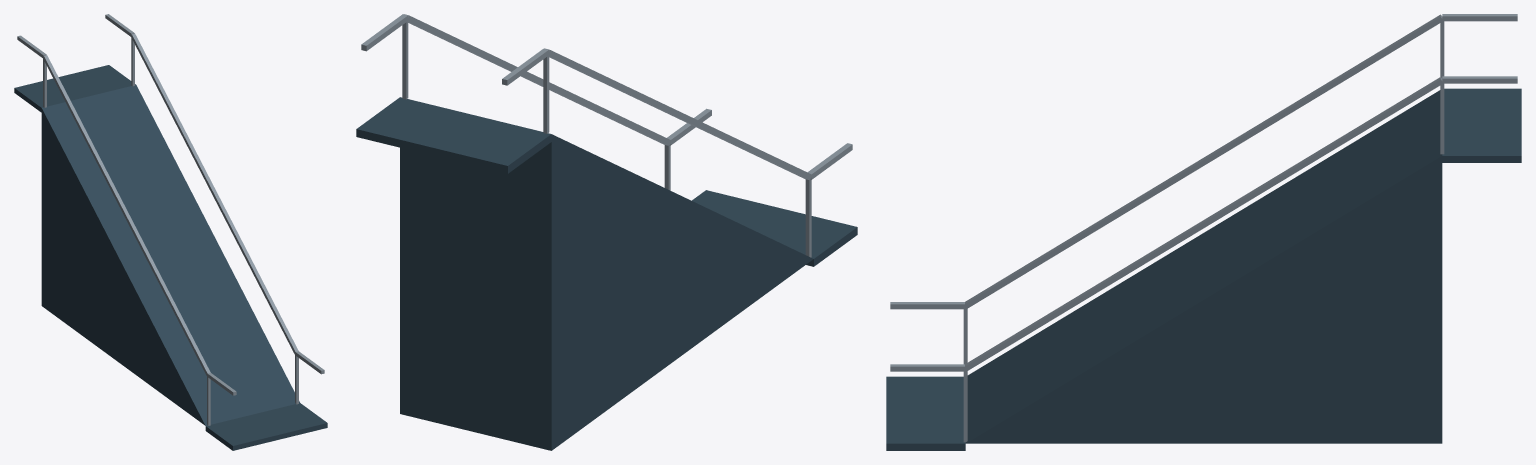
The model's file is stairs.v1.low.glb.
The picture shows the model from 3 angles, left to right: view 1: azimuth 30°, elevation 25°; view 2: azimuth 150°, elevation 25°; view 3: azimuth 270°, elevation 25°; orthographic projection. The views are drawn at different scales.
Visible parts, largest first — view 1: mesh_flight_low, mesh_lower_landing, mesh_upper_landing, mesh_rail_-0.93, mesh_rail_0.93; view 2: mesh_flight_low, mesh_upper_landing, mesh_lower_landing, mesh_rail_-0.93, mesh_rail_0.93, mesh_post_-0.93_0, mesh_post_0.93_1, mesh_post_-0.93_1, mesh_rail_exit_-0.93, mesh_rail_exit_0.93; view 3: mesh_flight_low, mesh_lower_landing, mesh_upper_landing, mesh_rail_-0.93, mesh_rail_0.93.
Part boxes in pixels (left/top/right/bottom): mesh_flight_low: left=41, top=85, right=299, bottom=425; mesh_lower_landing: left=205, top=403, right=327, bottom=450; mesh_upper_landing: left=14, top=65, right=135, bottom=112; mesh_rail_-0.93: left=43, top=55, right=210, bottom=375; mesh_rail_0.93: left=131, top=34, right=298, bottom=354; mesh_flight_low: left=400, top=134, right=813, bottom=450; mesh_upper_landing: left=356, top=97, right=551, bottom=173; mesh_lower_landing: left=692, top=190, right=857, bottom=266; mesh_rail_-0.93: left=544, top=48, right=811, bottom=180; mesh_rail_0.93: left=404, top=14, right=670, bottom=145; mesh_post_-0.93_0: left=805, top=179, right=811, bottom=257; mesh_post_0.93_1: left=402, top=21, right=408, bottom=99; mesh_post_-0.93_1: left=543, top=56, right=549, bottom=133; mesh_rail_exit_-0.93: left=502, top=48, right=548, bottom=85; mesh_rail_exit_0.93: left=361, top=14, right=407, bottom=51; mesh_flight_low: left=965, top=90, right=1442, bottom=443; mesh_lower_landing: left=886, top=376, right=965, bottom=450; mesh_upper_landing: left=1442, top=88, right=1521, bottom=162; mesh_rail_-0.93: left=964, top=14, right=1443, bottom=308; mesh_rail_0.93: left=965, top=77, right=1442, bottom=370.
Size of the model in its own units: 2 by 5.15 by 8.
